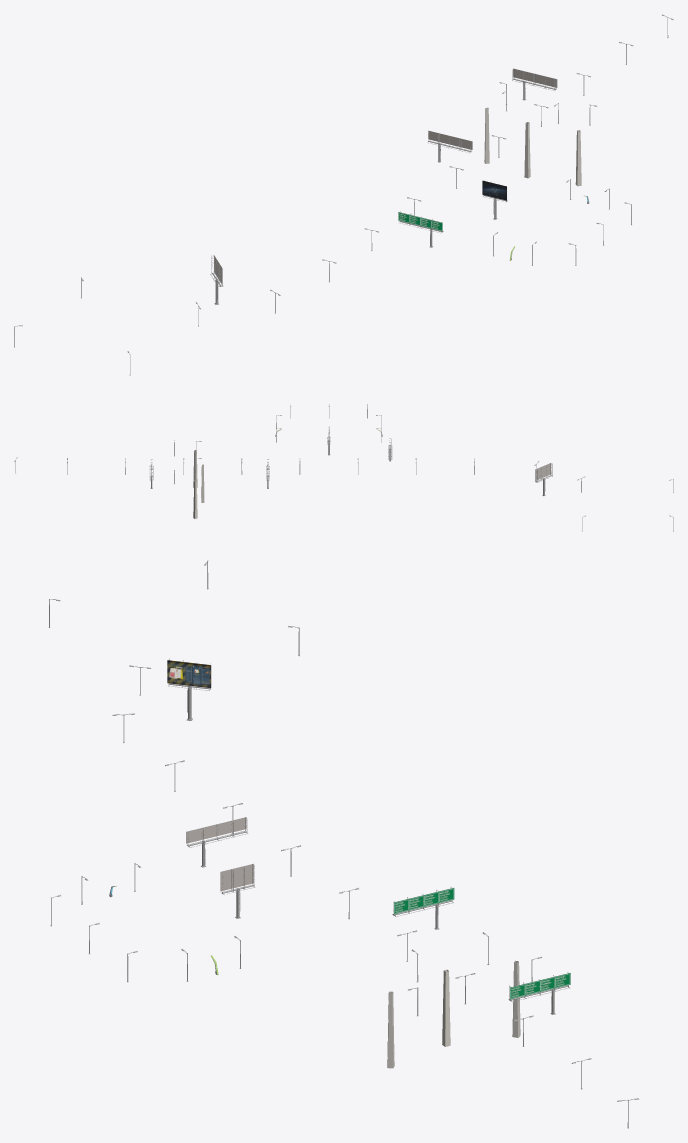
File: pieraroadsvertical.glb
The picture shows the model from 3 angles, top to bottom: view 1: azimuth 30°, elevation 25°; view 2: azimuth 150°, elevation 25°; view 3: azimuth 270°, elevation 25°; orthographic projection. The views are drawn at different scales.
Parts seen in each view (by area): view 1: cityblockassetkit.033, cityblockassetkit.038, cityblockassetkit.010; view 2: cityblockassetkit.015; view 3: cityblockassetkit.015, cityblockassetkit.010, cityblockassetkit.038, cityblockassetkit.033, cityblockassetkit.029.
Boxes of the visible parts, x1=… form: cityblockassetkit.033: x1=512, y1=68, x2=557, y2=100; cityblockassetkit.038: x1=427, y1=130, x2=472, y2=162; cityblockassetkit.010: x1=398, y1=211, x2=443, y2=247; cityblockassetkit.015: x1=535, y1=463, x2=552, y2=495; cityblockassetkit.015: x1=167, y1=658, x2=211, y2=720; cityblockassetkit.010: x1=186, y1=817, x2=248, y2=867; cityblockassetkit.038: x1=392, y1=886, x2=454, y2=929; cityblockassetkit.033: x1=508, y1=972, x2=570, y2=1014; cityblockassetkit.029: x1=220, y1=863, x2=255, y2=918.
Bounding box in the file's own units: 419 × 41.25 × 193.
Materials: 15 (10 with a texture image).
